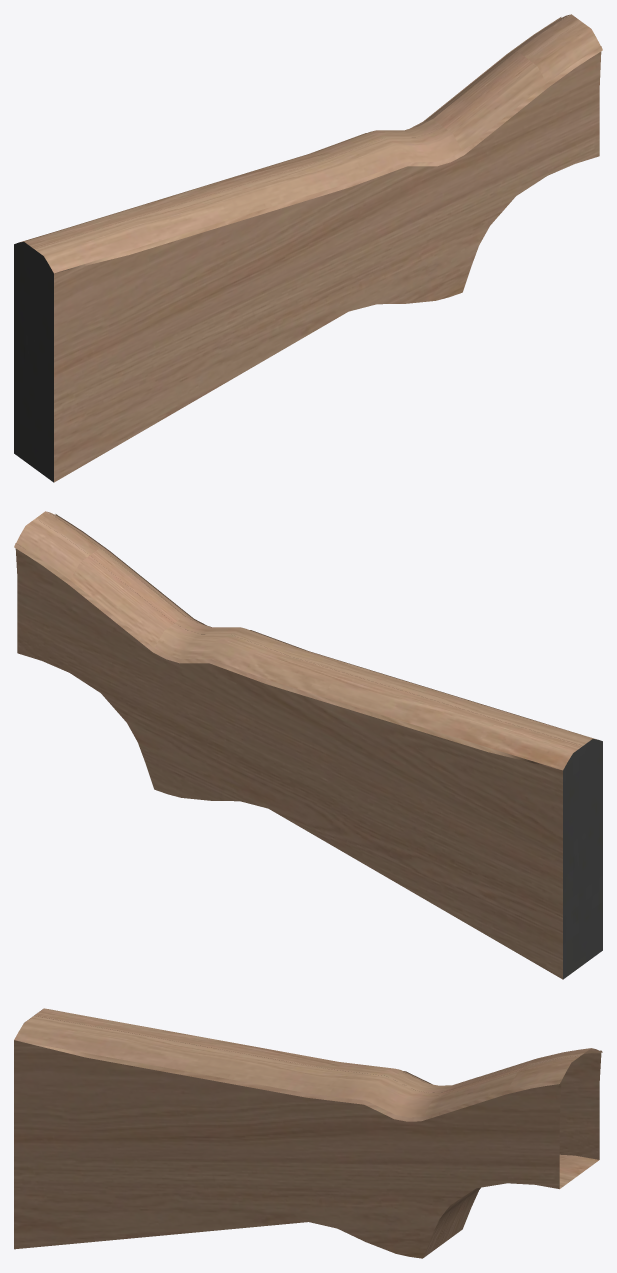
The model's file is Kabza_V1.glb.
The picture shows the model from 3 angles, top to bottom: view 1: azimuth 30°, elevation 25°; view 2: azimuth 150°, elevation 25°; view 3: azimuth 330°, elevation 25°; orthographic projection.
Parts seen in each view (by area): view 1: Kabza; view 2: Kabza; view 3: Kabza.
Boxes of the visible parts, x1,y1,x2,y2 form: Kabza: [14, 14, 602, 482]; Kabza: [14, 511, 602, 979]; Kabza: [14, 1008, 602, 1258].
Size of the model in its own units: 1.5 by 0.8206 by 0.2051.
Materials: 2 (2 with a texture image).
